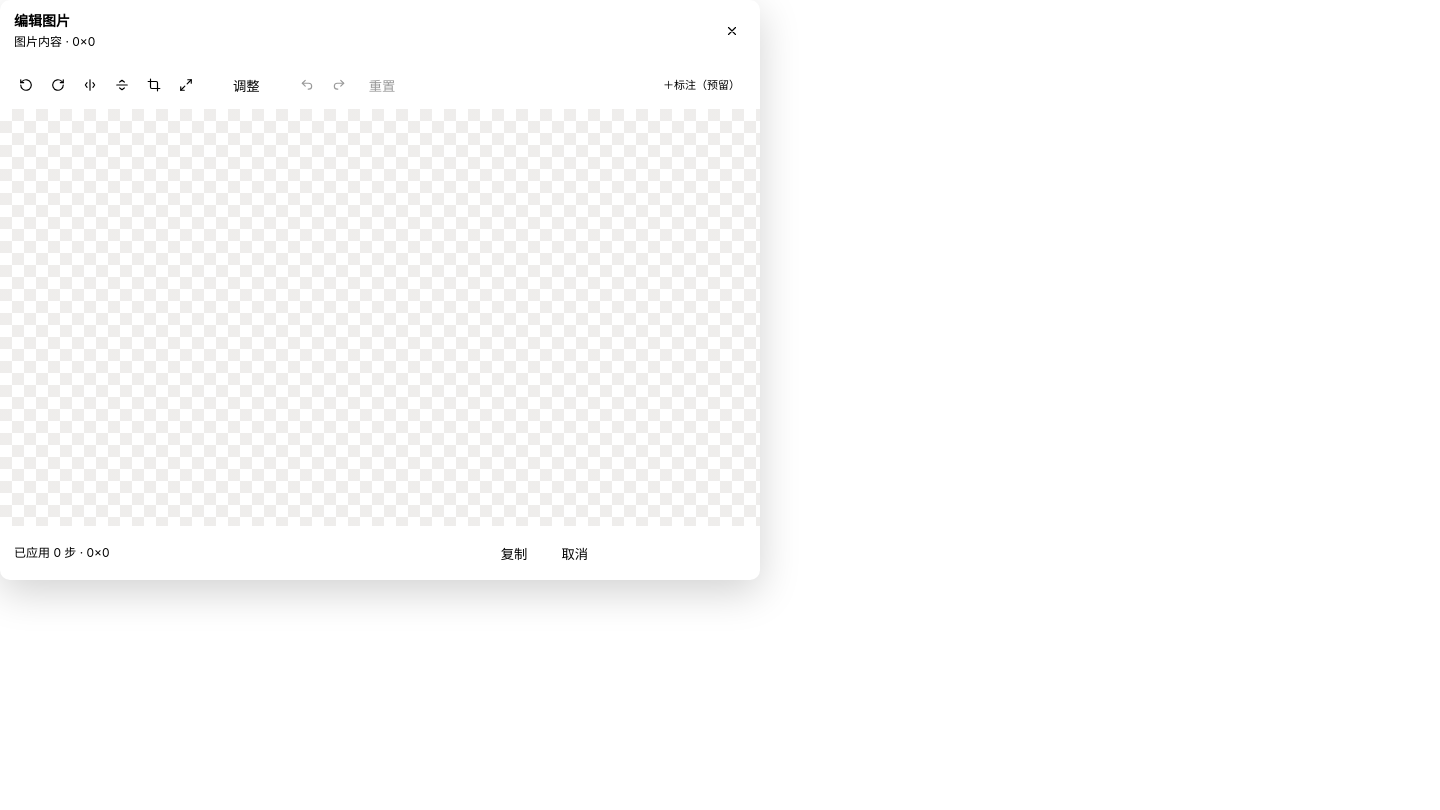
Test: ClipboardImageEditor › adds a rotate op and toggles undo/redo
Expected: the button with test id "clip-tool-undo" is disabled, [293, 71, 321, 99]
Click the button with test id "clip-tool-rotate-right": (58, 85) [44, 71, 72, 99]
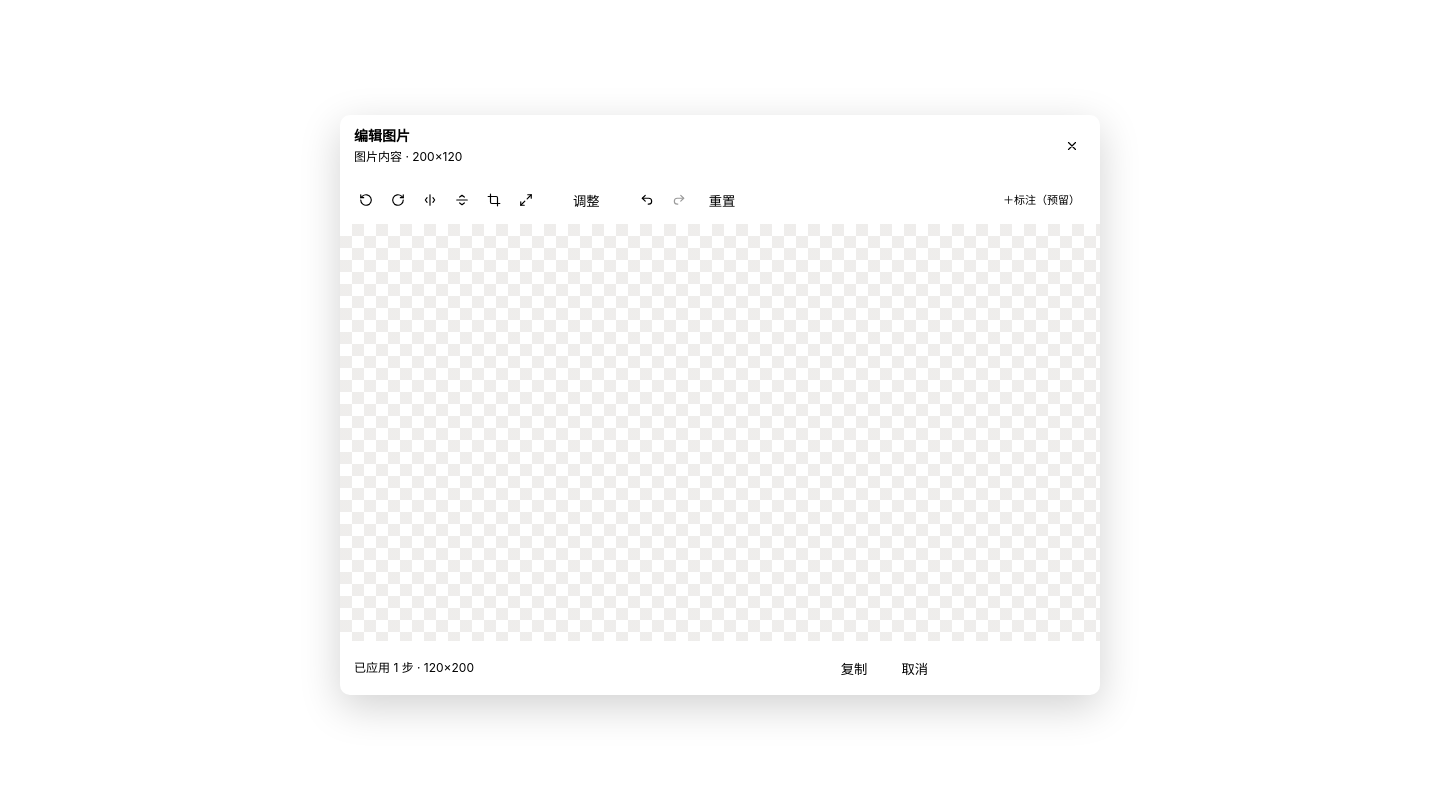
Result: the text with test id "clip-editor-status" shows "1" at [354, 660, 474, 675]
Result: the button with test id "clip-tool-undo" is enabled
Click the button with test id "clip-tool-undo": (647, 200) [633, 186, 661, 214]
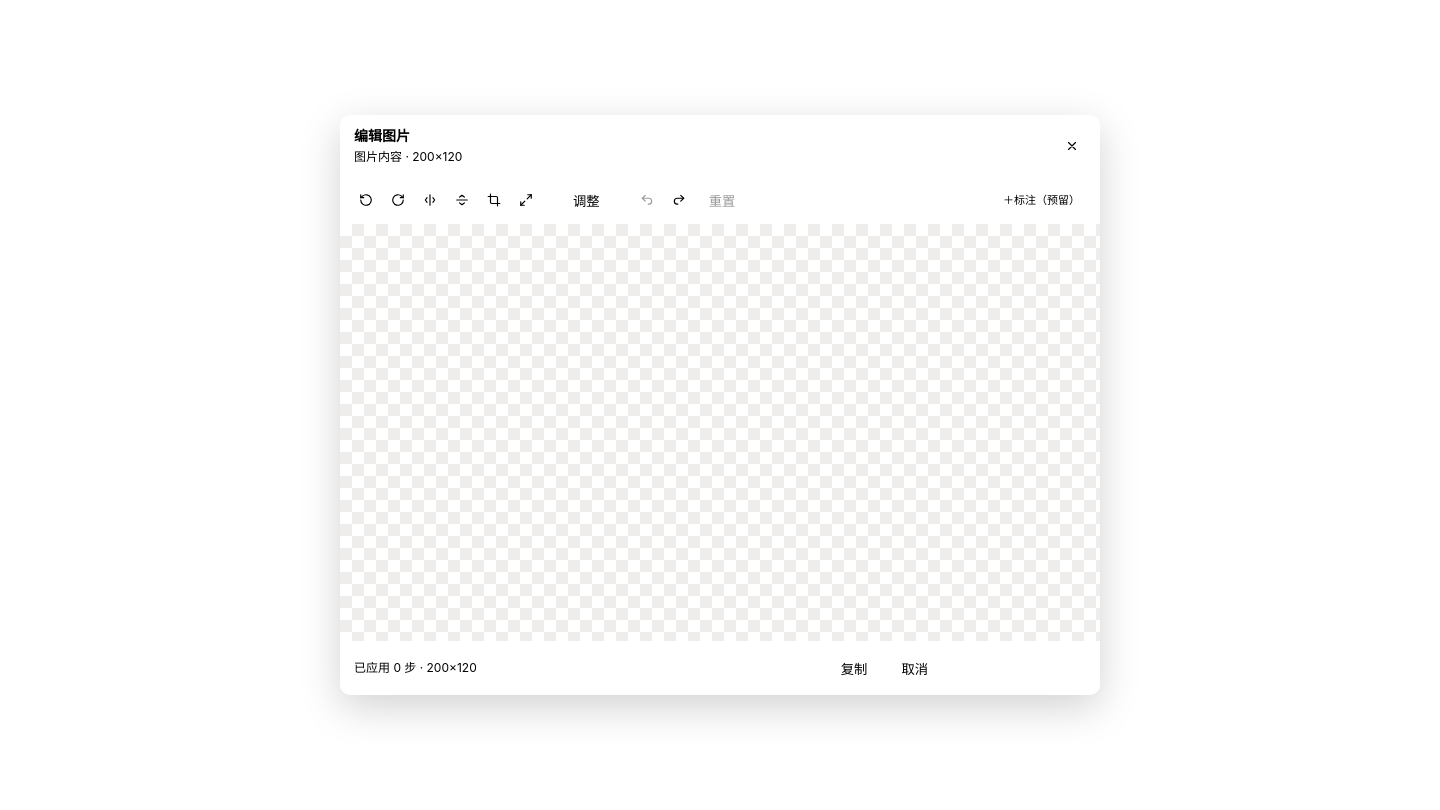
Result: the button with test id "clip-tool-redo" is enabled at [665, 186, 693, 214]
